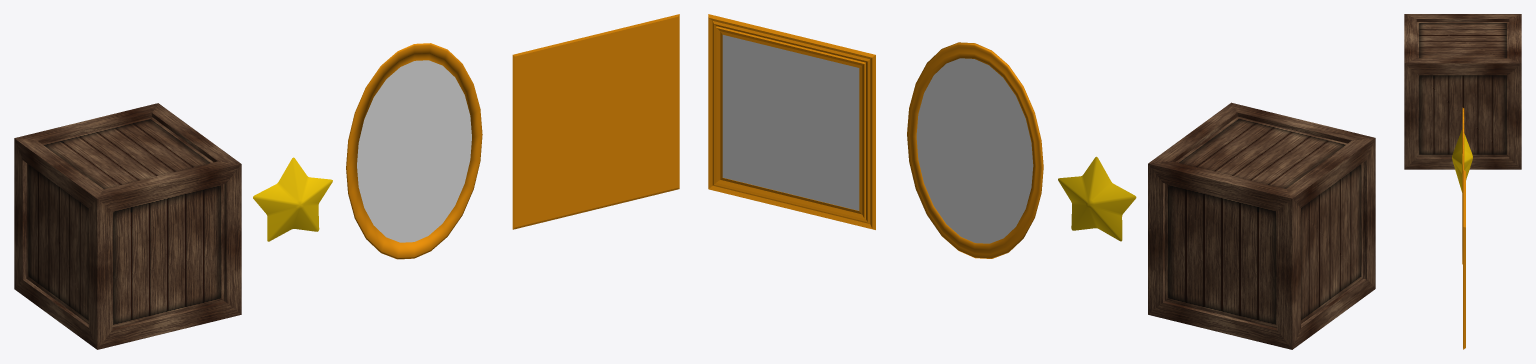
File: Other objects.fbx
The picture shows the model from 3 angles, left to right: view 1: azimuth 30°, elevation 25°; view 2: azimuth 150°, elevation 25°; view 3: azimuth 270°, elevation 25°; orthographic projection. The views are drawn at different scales.
Visible parts, largest first — view 1: Cube.001, Plane.001, Mirror, Cube; view 2: Cube.001, Plane.001, Mirror, Cube; view 3: Cube.001, Cube, Plane.001, Mirror.
Boxes of the visible parts, box(x1,y1,x2,y2) form: Cube.001: box(14, 103, 241, 349); Plane.001: box(512, 14, 679, 229); Mirror: box(346, 43, 482, 259); Cube: box(253, 157, 332, 241); Cube.001: box(1148, 102, 1375, 349); Plane.001: box(708, 14, 875, 229); Mirror: box(907, 42, 1043, 258); Cube: box(1058, 156, 1136, 241); Cube.001: box(1404, 14, 1521, 169); Cube: box(1452, 129, 1472, 192); Plane.001: box(1463, 169, 1465, 349); Mirror: box(1462, 107, 1464, 264).
Size of the model in its own units: 140 by 46.04 by 32.34.
4 materials, 1 textured.
